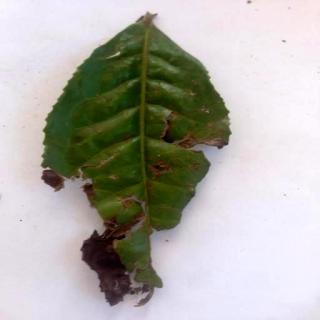Brown Blight: (42, 14, 233, 306)
